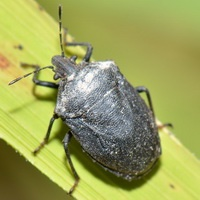insect: (0, 141, 73, 199)
